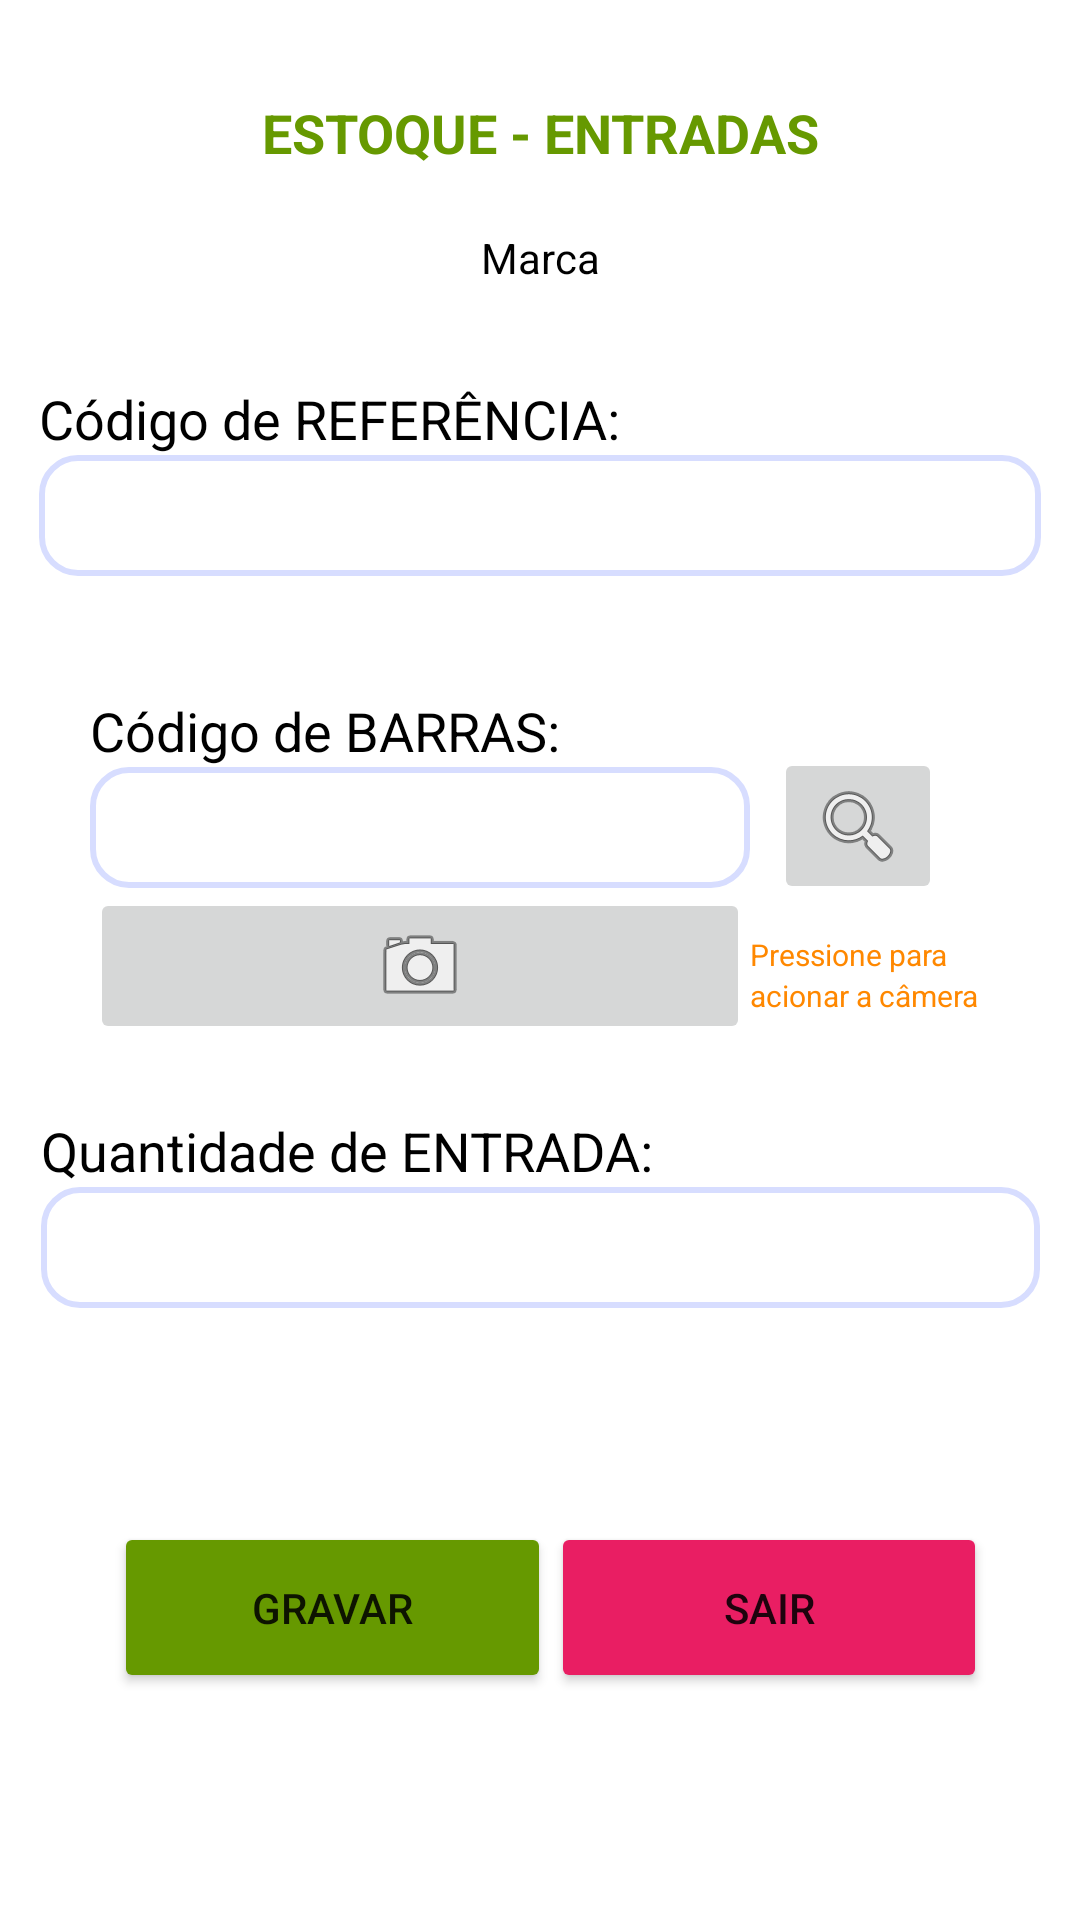

Icon bounding boxes for this 1080px×1920px phone screenshot, format (x1, y1, x2, y2):
search: (786, 766, 930, 886)
